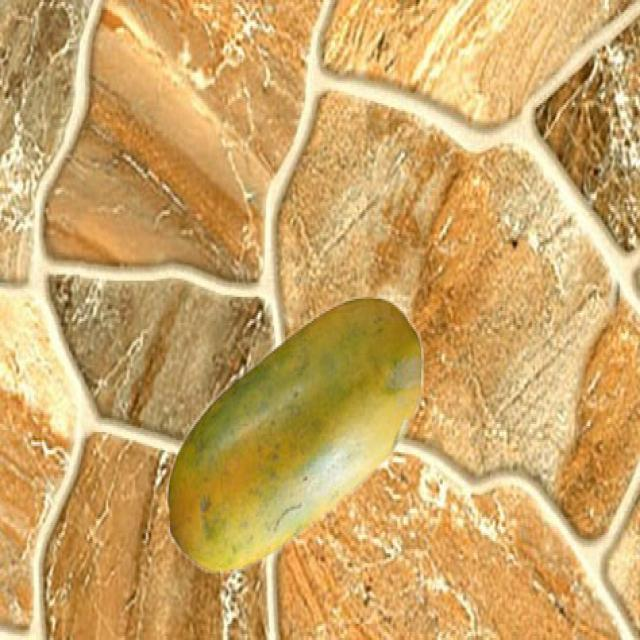Pepaya rippen: (163, 290, 427, 590)
